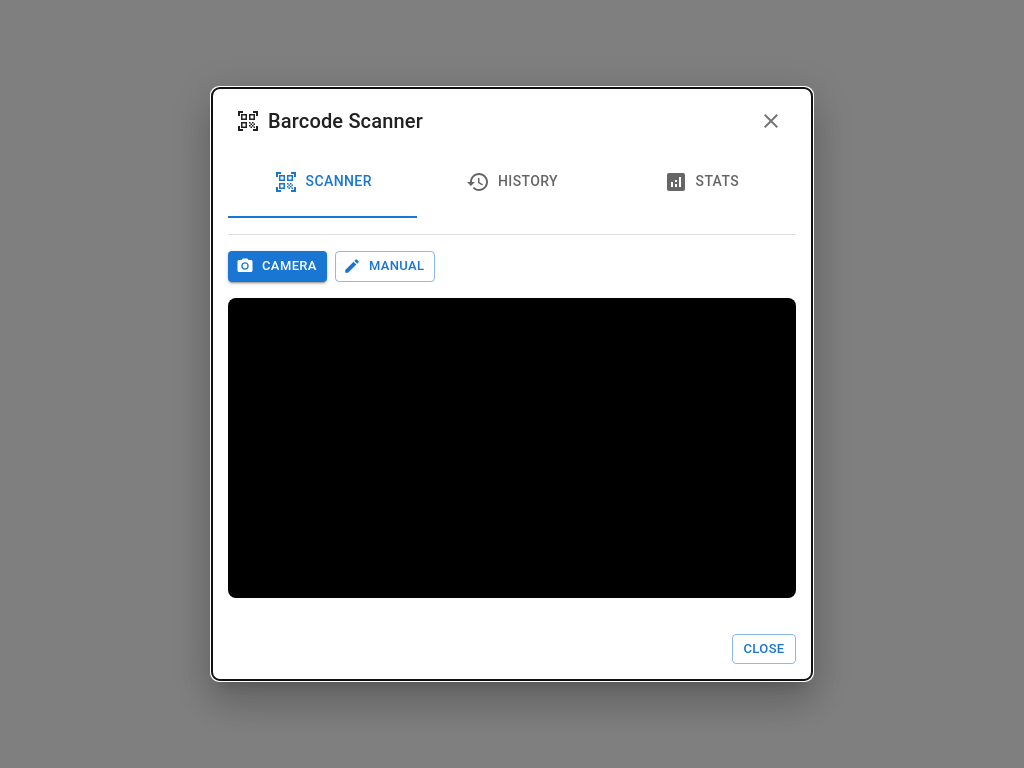
Scenario: EnhancedBarcodeScanner › should disable scan button when input is empty
Switch to manual mode
Click the button "Manual" at (385, 266), box [335,251,435,282]
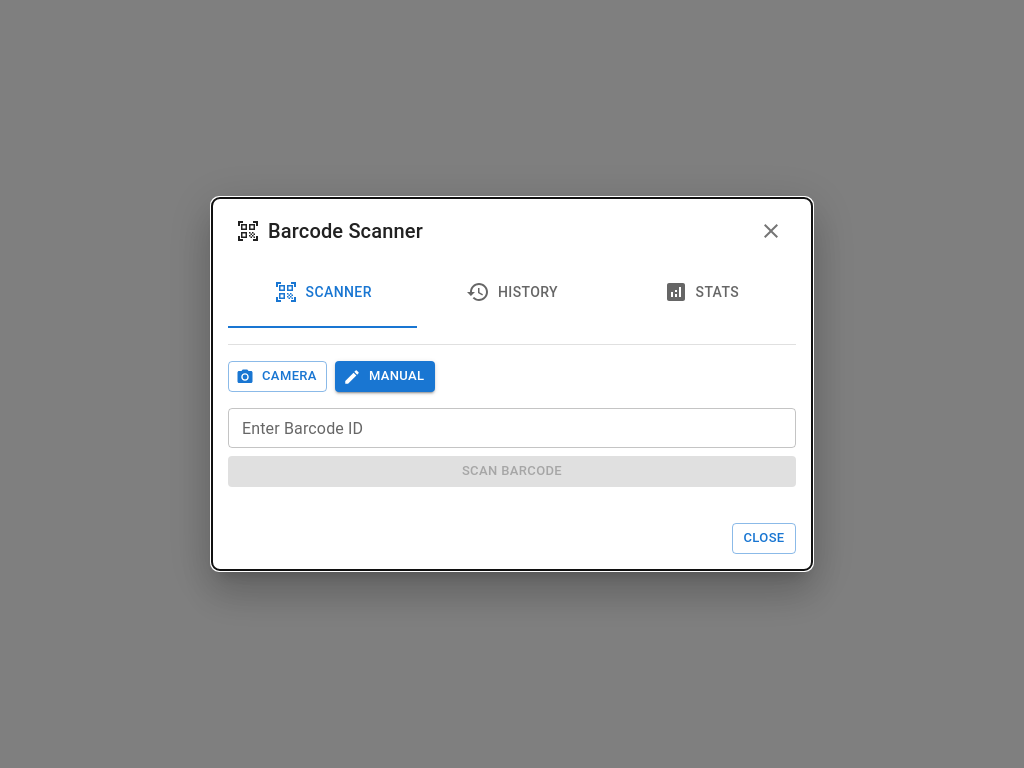
Expected: the field labelled "Enter Barcode ID" is shown, [228,408,796,448]
Expected: the button "Scan Barcode" is disabled, [228,456,796,487]
